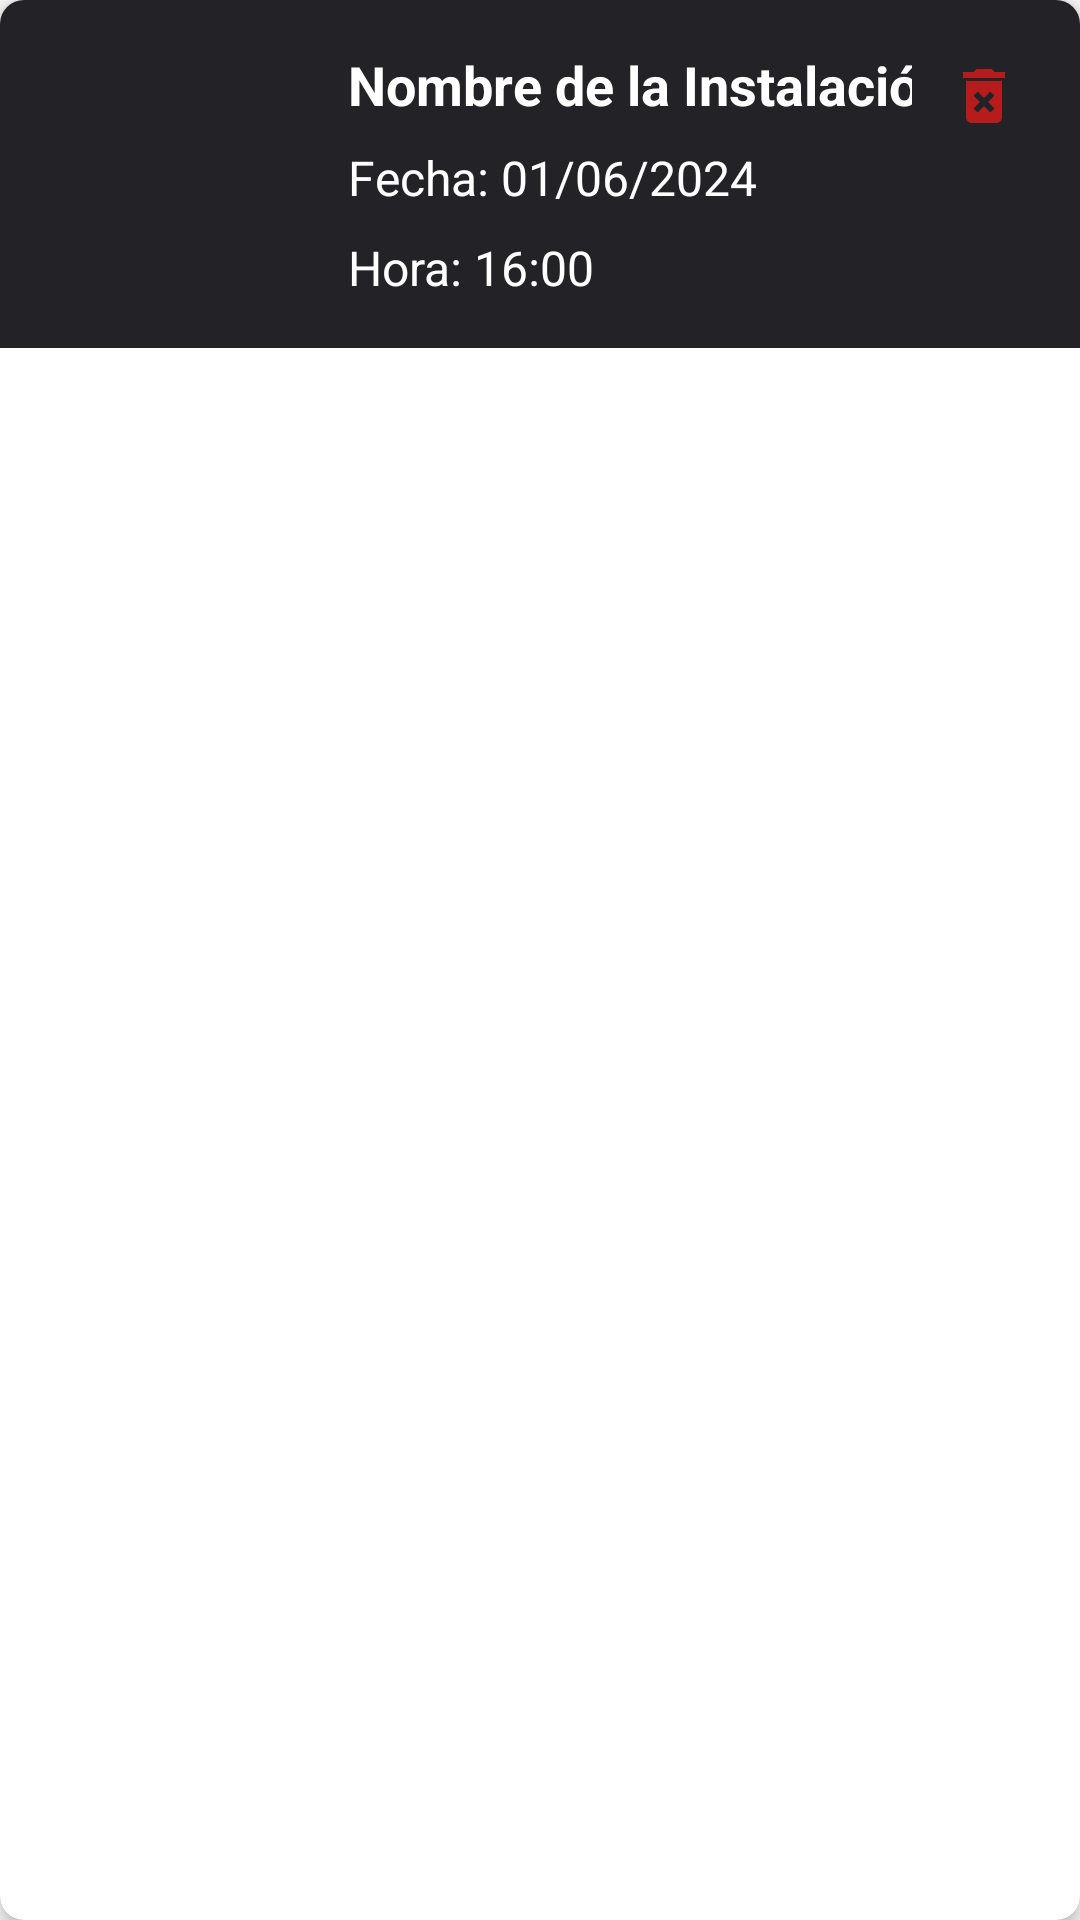

Where to tap for icons on this 1080w x 1920h app screen, as [x,y]:
Cancelar reserva: [984,96]
